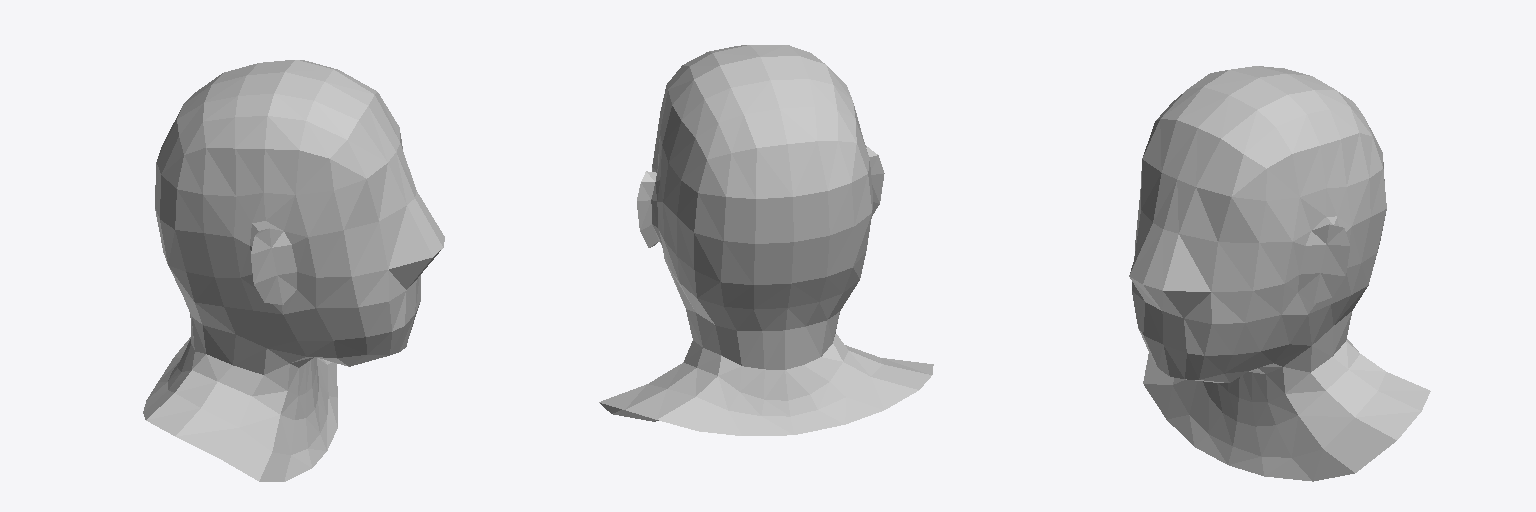
Rendered from Persona.obj.
3 views of the same model, side by side, from view 1: azimuth 30°, elevation 25°; view 2: azimuth 150°, elevation 25°; view 3: azimuth 270°, elevation 25° (orthographic).
Parts seen in each view (by area): view 1: Head_Cube; view 2: Head_Cube; view 3: Head_Cube.
Part boxes in pixels (x1,y1,x2,y2): Head_Cube: (143,60,444,481); Head_Cube: (599,45,933,435); Head_Cube: (1129,66,1430,481).
Size of the model in its own units: 4.2 by 5.74 by 4.2.